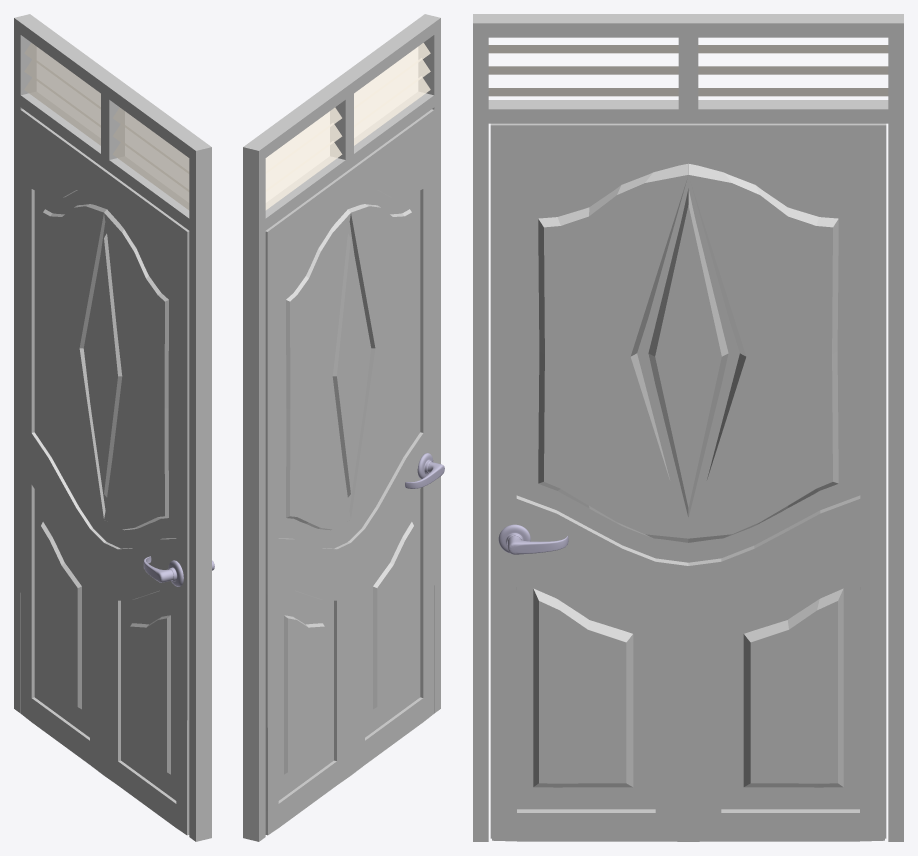
Rendered from Door.fbx.
The picture shows the model from 3 angles, left to right: view 1: azimuth 30°, elevation 25°; view 2: azimuth 150°, elevation 25°; view 3: azimuth 270°, elevation 25°; orthographic projection. The views are drawn at different scales.
Parts seen in each view (by area): view 1: Door, DoorPost, Handle_Back; view 2: Door, DoorPost, Handle_Back; view 3: Door, DoorPost, Handle_Front.
Boxes of the visible parts, x1=… form: Door: x1=20, y1=109, x2=189, y2=835; DoorPost: x1=14, y1=14, x2=211, y2=841; Handle_Back: x1=143, y1=556, x2=183, y2=586; Door: x1=265, y1=109, x2=434, y2=835; DoorPost: x1=243, y1=14, x2=440, y2=841; Handle_Back: x1=405, y1=453, x2=444, y2=488; Door: x1=490, y1=123, x2=886, y2=841; DoorPost: x1=473, y1=14, x2=903, y2=841; Handle_Front: x1=498, y1=524, x2=568, y2=554.
Bounding box in the file's own units: 18.79 × 229 × 109.
